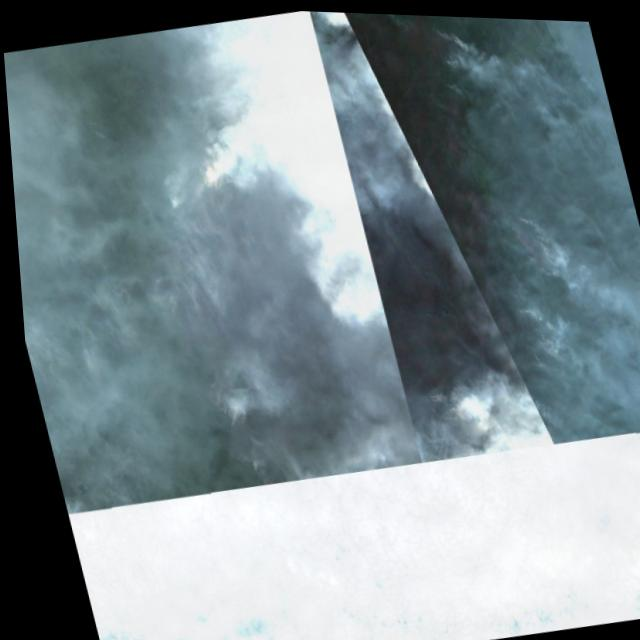fire: (156, 327, 291, 495), (137, 114, 305, 234), (477, 200, 584, 380), (400, 12, 493, 126), (420, 356, 510, 462)
